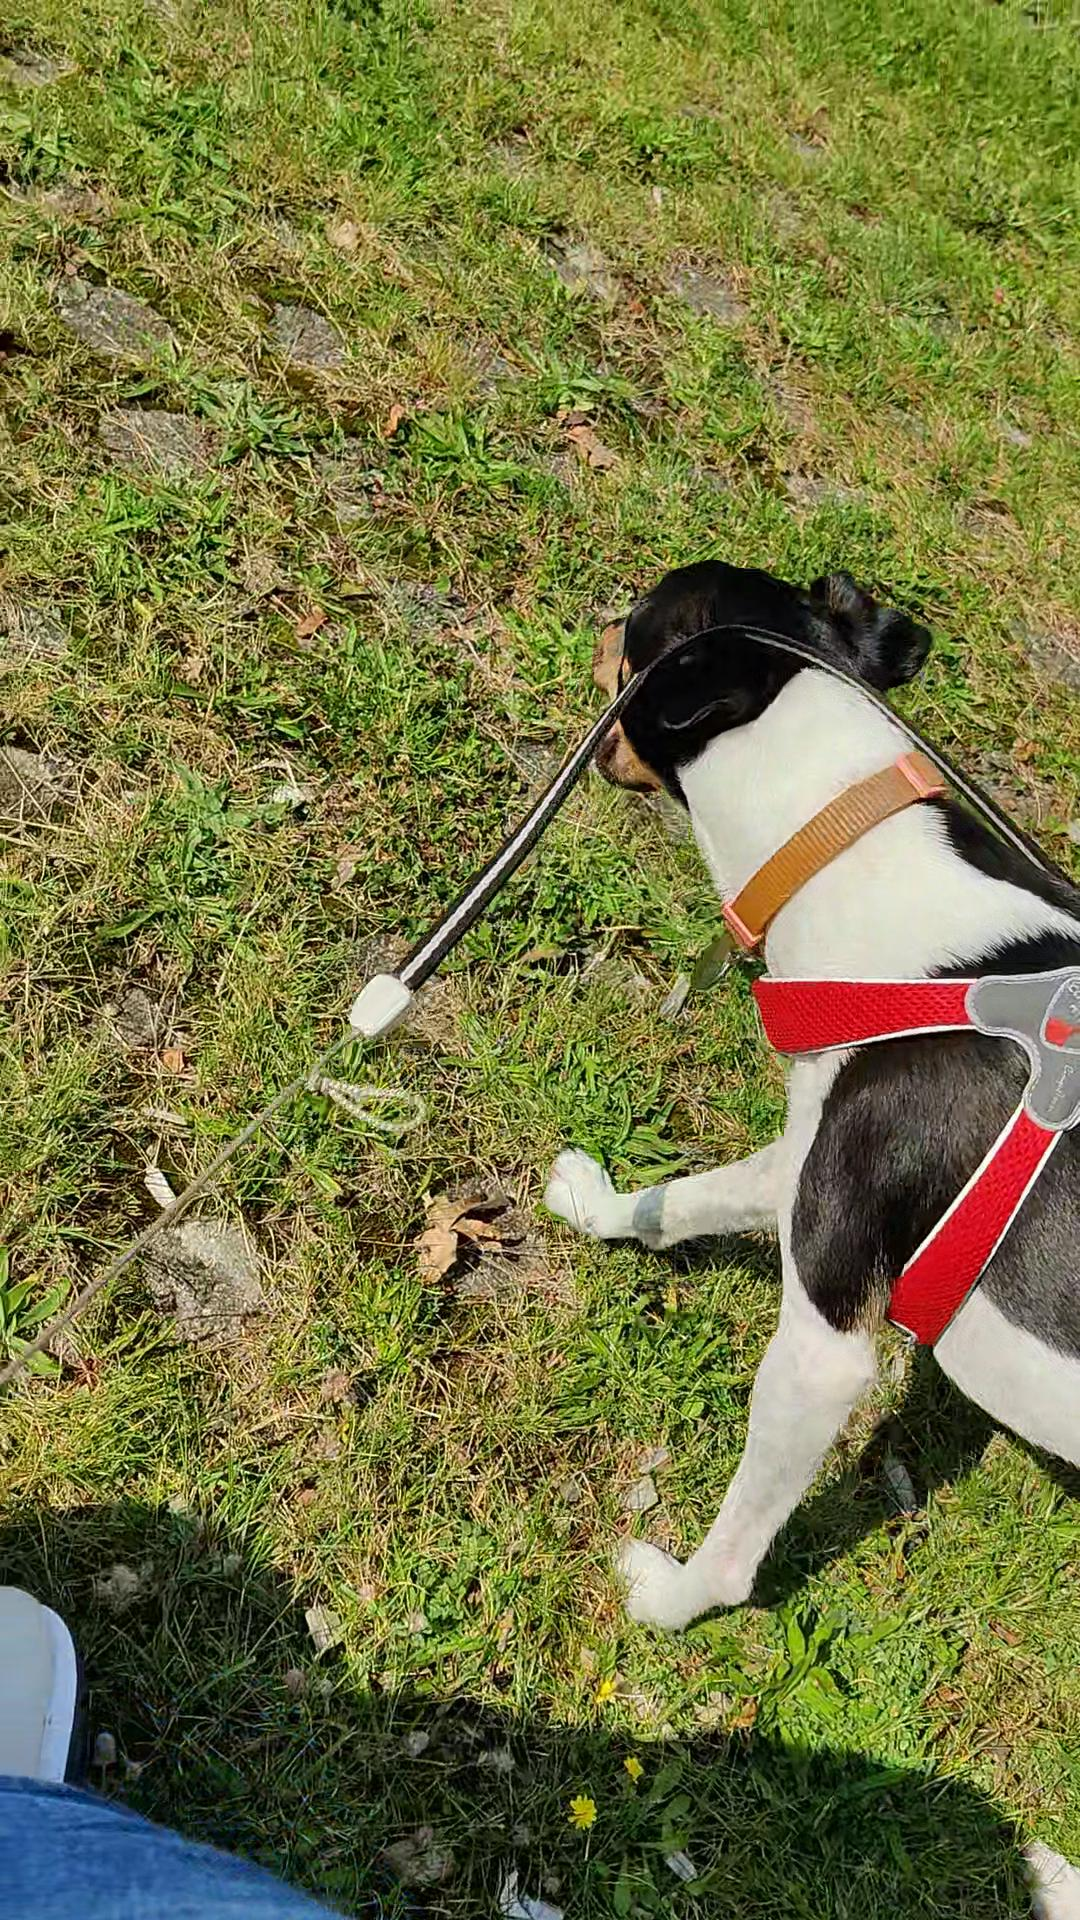Dog: (527, 504, 1079, 1919)
